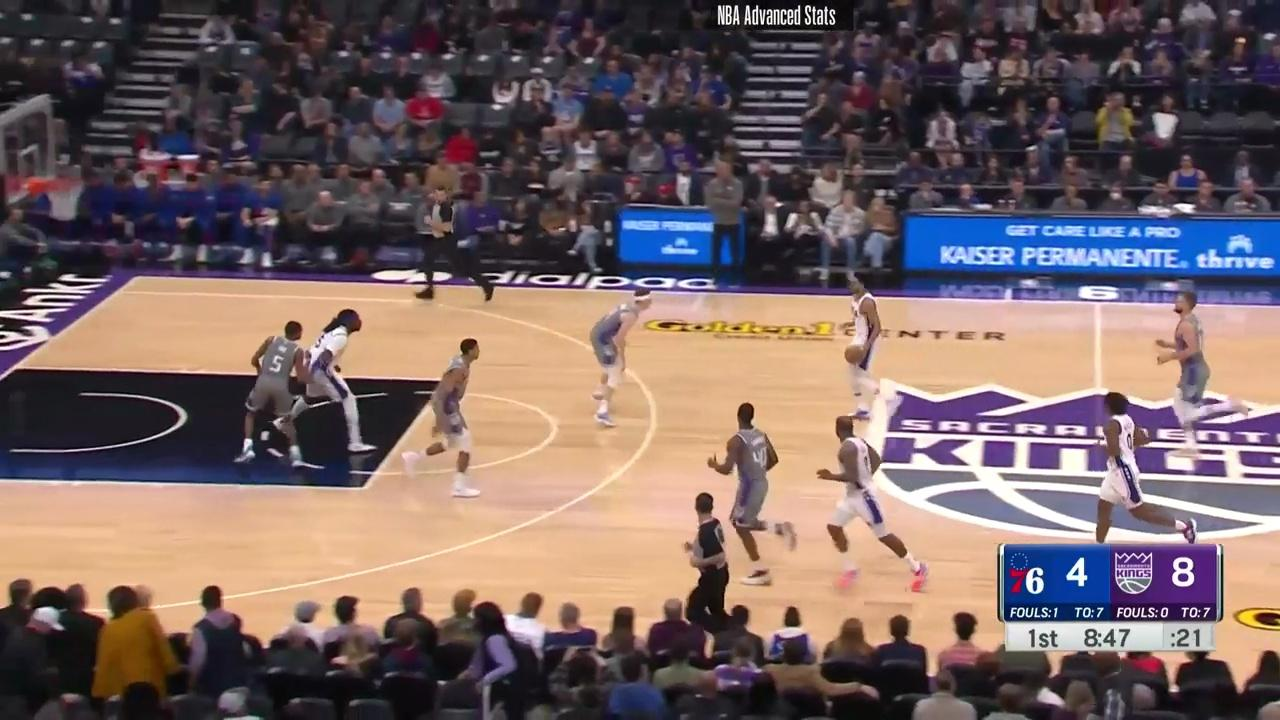Backboard: (2, 89, 61, 212)
Ball: (844, 345, 865, 366)
Basket: (36, 177, 84, 223)
Person: (1078, 392, 1211, 549), (812, 410, 924, 590), (1152, 283, 1255, 434), (397, 339, 486, 502), (723, 398, 785, 567), (840, 266, 905, 422), (239, 318, 310, 460), (304, 305, 368, 459), (587, 286, 656, 428)
Referee: (683, 492, 756, 621), (413, 186, 486, 303)
